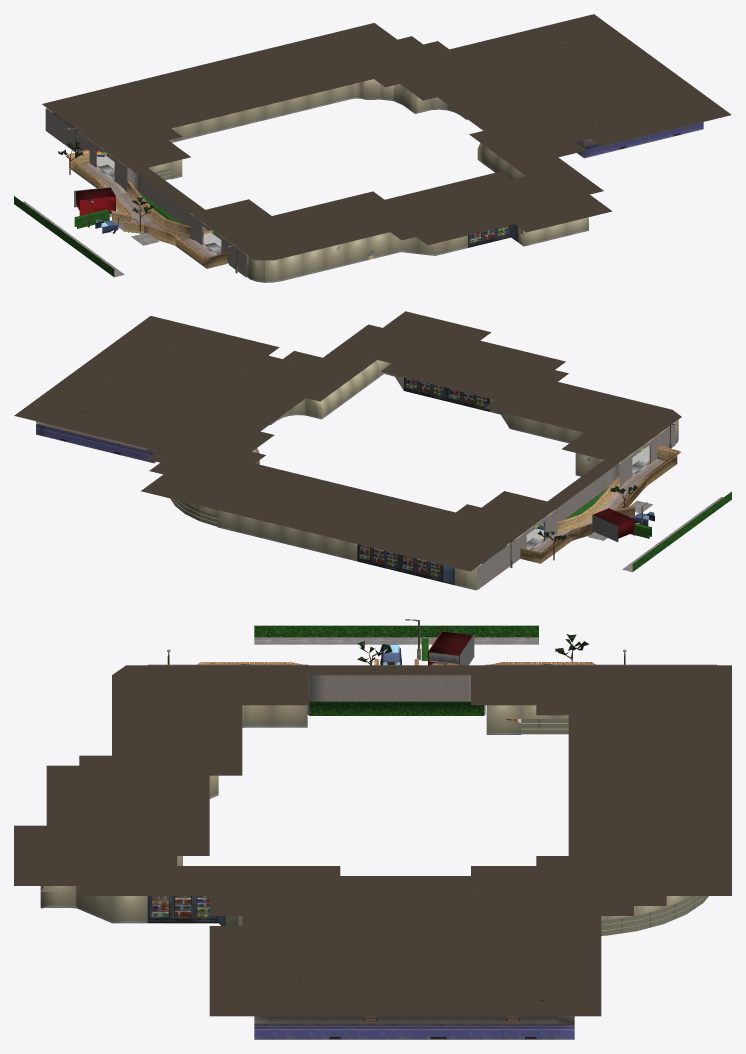
File: market2.fbx
3 renders of one model, top to bottom at view 1: azimuth 30°, elevation 25°; view 2: azimuth 150°, elevation 25°; view 3: azimuth 270°, elevation 25°, orthographic. The views are drawn at different scales.
Visible parts, largest first — view 1: milk_ff.prm.001, milk_ff.prm.007, milk_ff.prm.002, milk_ff.prm.006, milk_ff.prm.008, milk_ff.prm.003; view 2: milk_ff.prm.001, milk_ff.prm.007, milk_ff.prm.006, milk_ff.prm.002, milk_ff.prm.008, milk_ff.prm.003, milk_ff.prm.010; view 3: milk_ff.prm.001, milk_ff.prm.006, milk_ff.prm.002, milk_ff.prm.007, milk_ff.prm.010, milk_ff.prm.008, milk_ff.prm.003.
Part boxes in pixels (x1,y1,x2,y2): milk_ff.prm.001: (42,14,731,260); milk_ff.prm.007: (47,79,588,282); milk_ff.prm.002: (14,141,228,276); milk_ff.prm.006: (45,34,703,277); milk_ff.prm.008: (53,112,517,247); milk_ff.prm.003: (23,118,467,277); milk_ff.prm.001: (14,311,681,571); milk_ff.prm.007: (183,360,678,590); milk_ff.prm.006: (36,337,675,590); milk_ff.prm.002: (519,445,731,571); milk_ff.prm.008: (357,377,506,584); milk_ff.prm.003: (270,424,723,572); milk_ff.prm.010: (107,350,543,530); milk_ff.prm.001: (14,619,731,1016); milk_ff.prm.006: (148,619,716,1039); milk_ff.prm.002: (197,625,595,715); milk_ff.prm.007: (40,705,690,925); milk_ff.prm.010: (437,663,708,935); milk_ff.prm.008: (147,896,225,925); milk_ff.prm.003: (254,637,538,644).
Size of the model in its own units: 27733 by 1821 by 20167.
Materials: 11 (10 with a texture image).
